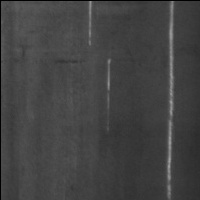scratches: (163, 1, 177, 200)
